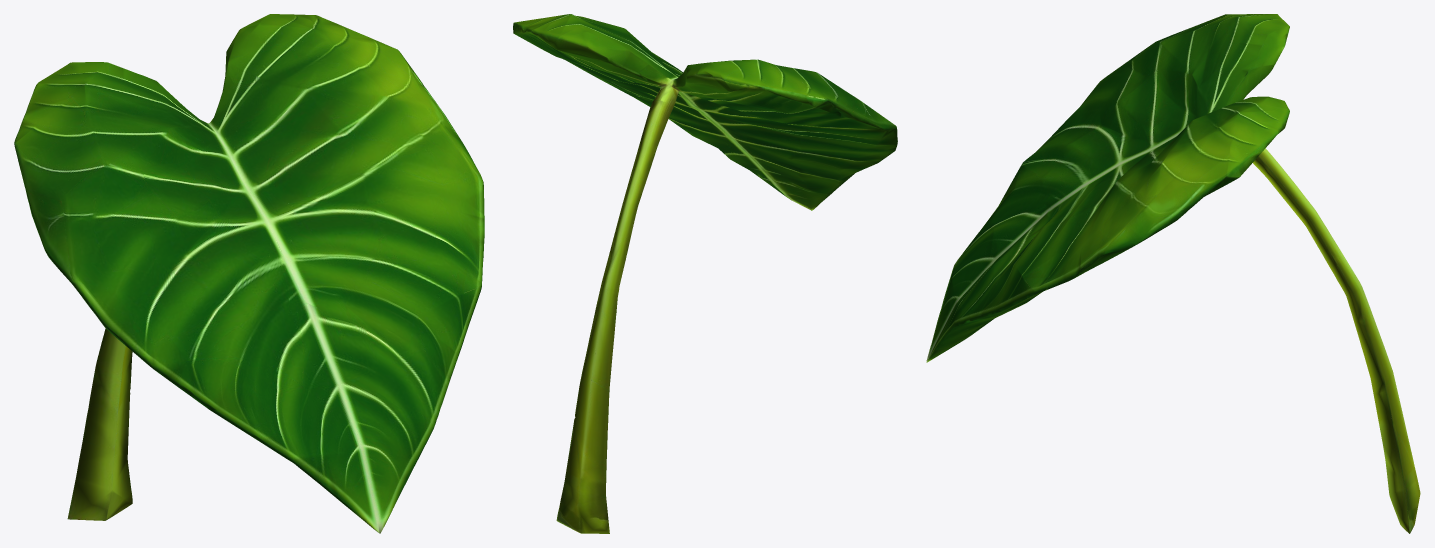
The model's file is pp_leaf_young.glb.
The picture shows the model from 3 angles, left to right: view 1: azimuth 30°, elevation 25°; view 2: azimuth 150°, elevation 25°; view 3: azimuth 270°, elevation 25°; orthographic projection. The views are drawn at different scales.
Bounding box in the file's own units: 1.57 × 1.9 × 1.85.
1 material, 1 textured.
